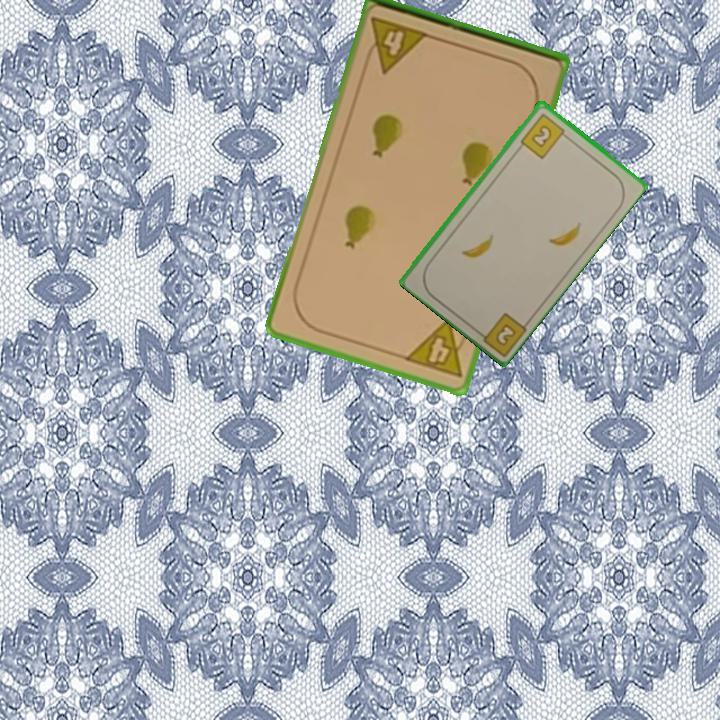2b: (517, 109, 571, 161), (472, 309, 529, 357)
4p: (401, 315, 474, 381), (360, 13, 432, 76)
